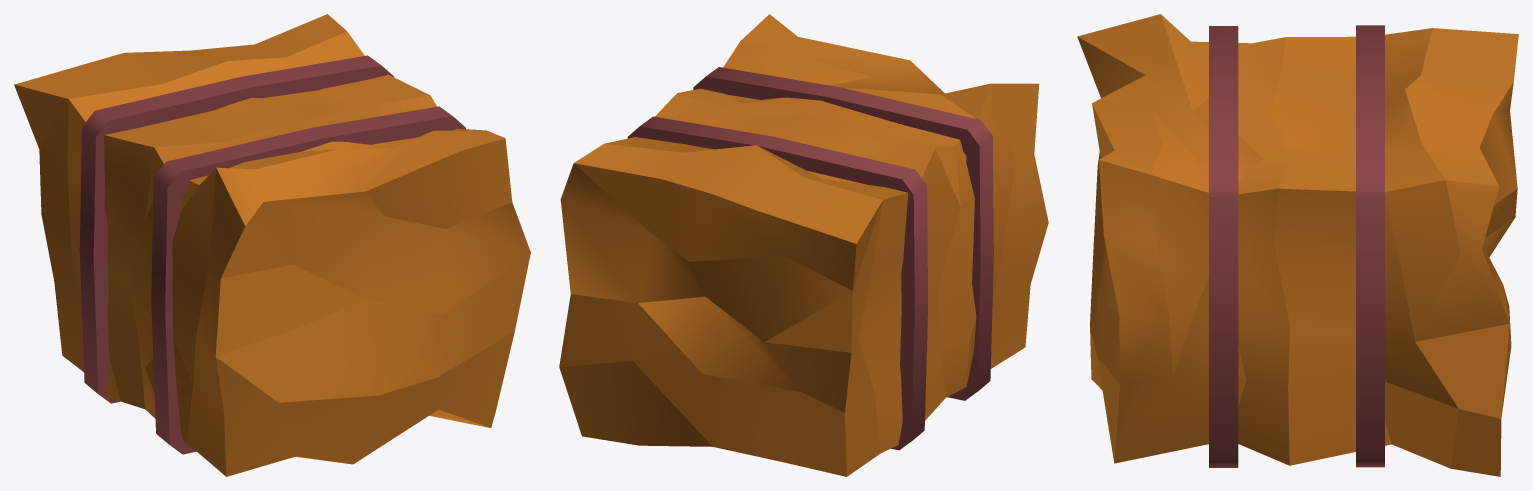
Rendered from Hay_4.fbx.
3 views of the same model, side by side, from view 1: azimuth 30°, elevation 25°; view 2: azimuth 150°, elevation 25°; view 3: azimuth 270°, elevation 25° (orthographic). The views are drawn at different scales.
Parts seen in each view (by area): view 1: Hay_4; view 2: Hay_4; view 3: Hay_4.
Boxes of the visible parts, left/top/right/bottom form: Hay_4: left=14, top=14, right=530, bottom=476; Hay_4: left=559, top=14, right=1048, bottom=476; Hay_4: left=1077, top=14, right=1518, bottom=476.
Size of the model in its own units: 22.47 by 20.87 by 25.16.
